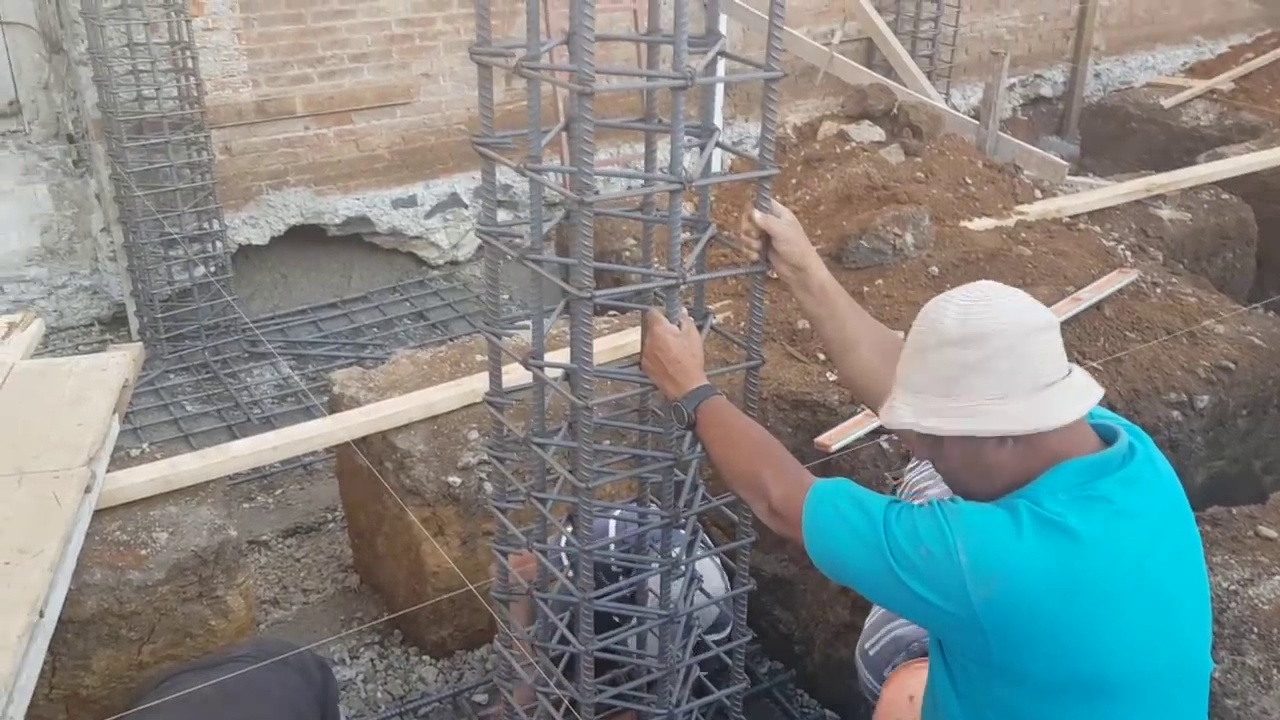helmet-off: (872, 294, 1121, 505)
person: (689, 271, 1218, 720), (482, 491, 604, 665)
